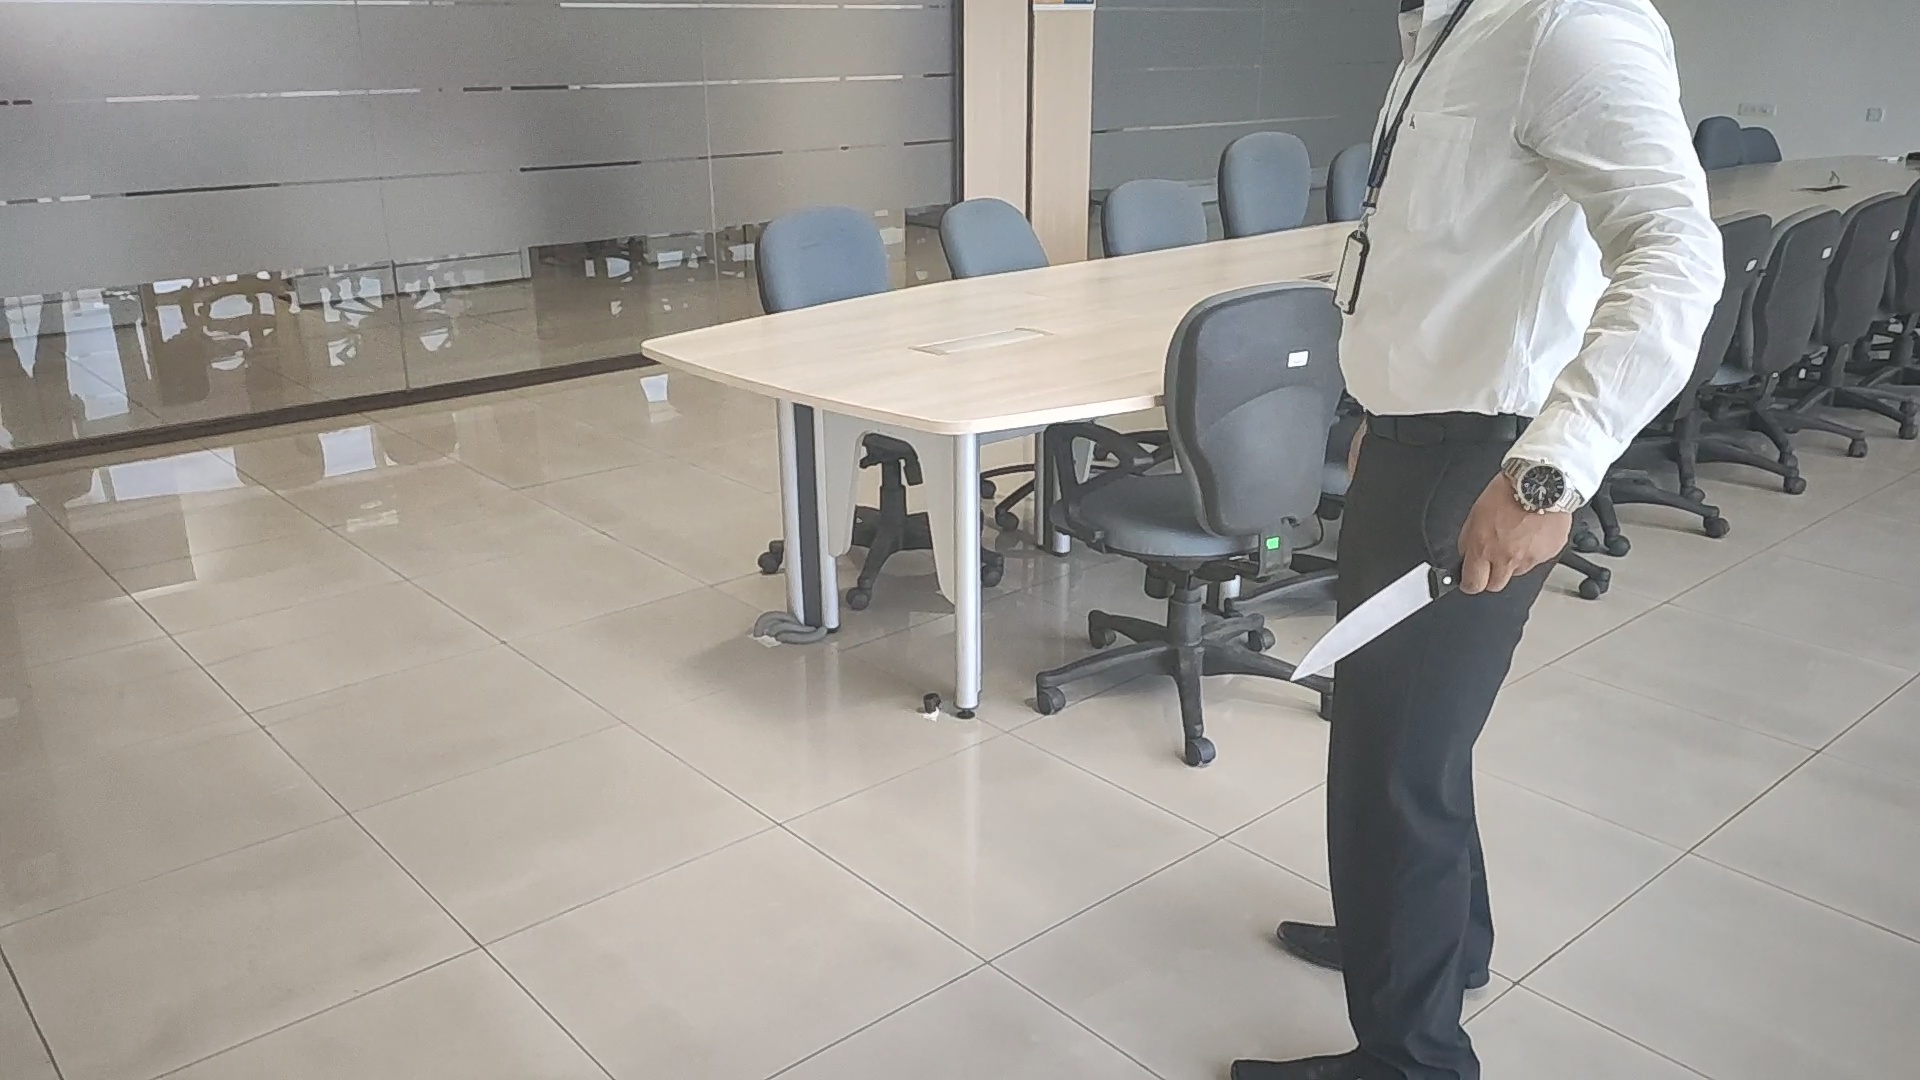knife: (1290, 553, 1465, 684)
